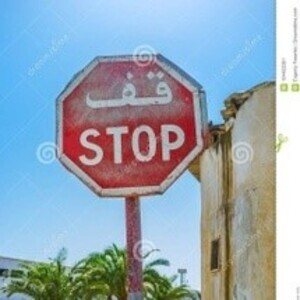stop: (55, 54, 205, 197)
